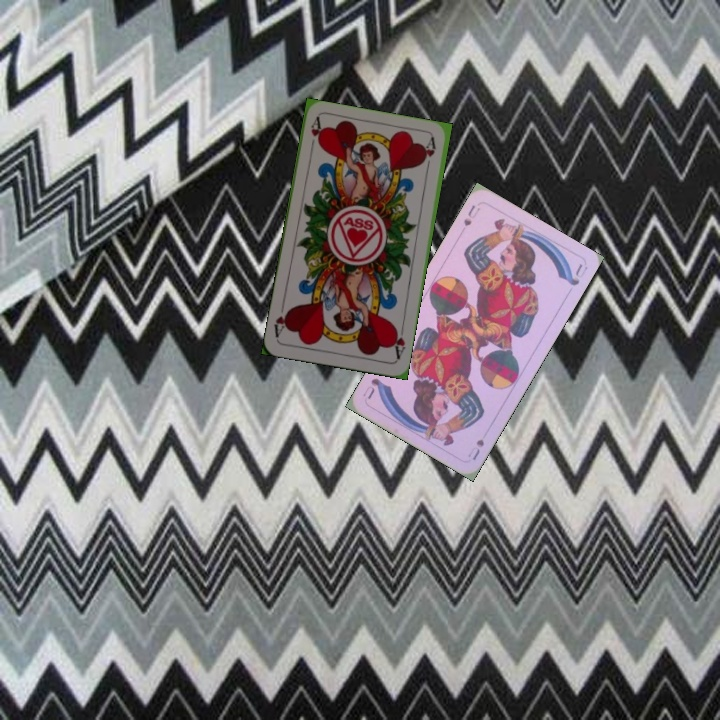HA: (388, 323, 408, 362), (306, 114, 324, 155)
SU: (459, 201, 483, 229), (464, 435, 487, 463)
